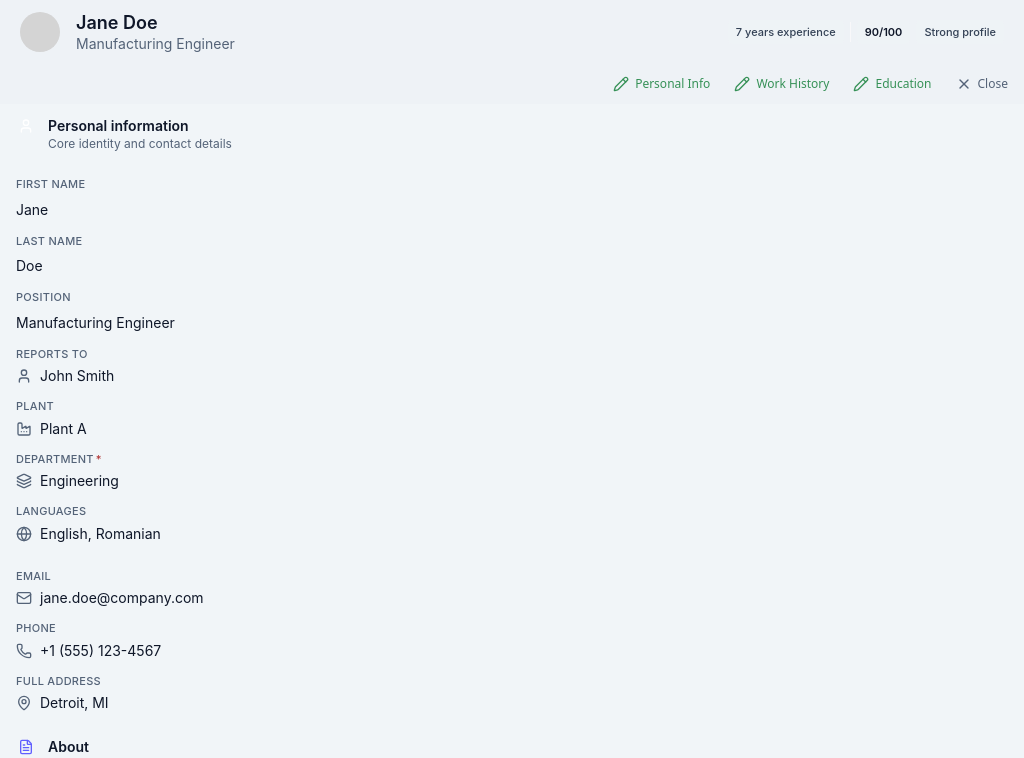
Scenario: UserProfilePage — integration › save success › shows success toast after successful save
Click the button "Personal Info".
click(662, 84)  # box x1=605 y1=68 x2=718 y2=100
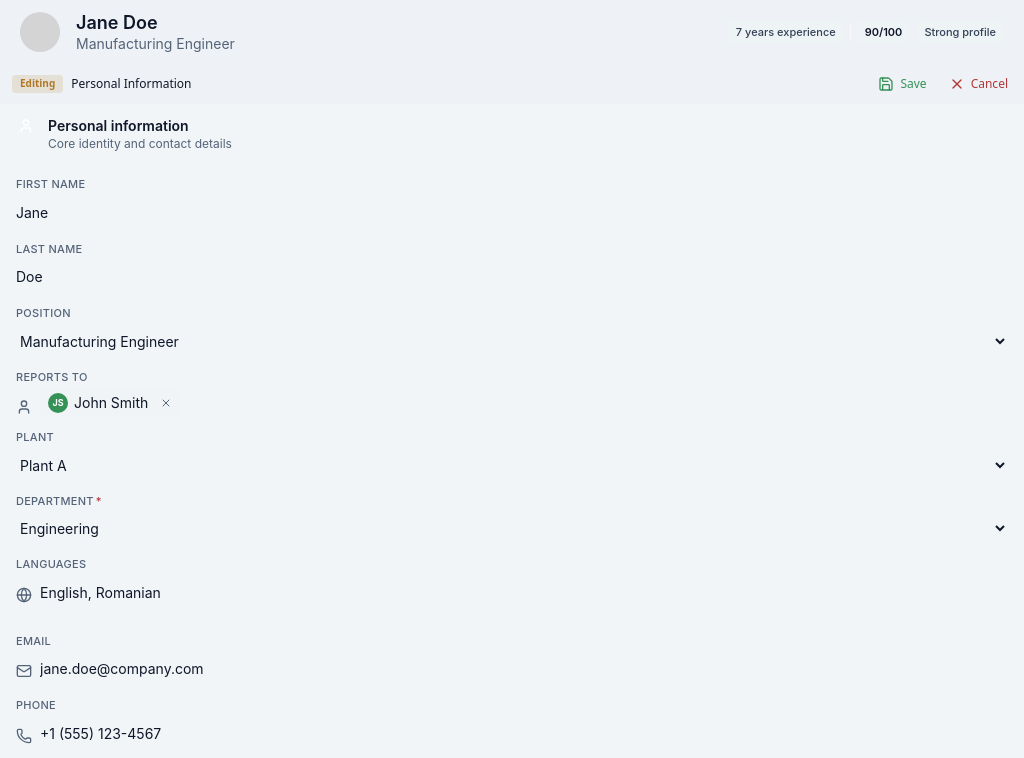
Click the button "Save".
click(903, 84)  # box x1=870 y1=68 x2=935 y2=100
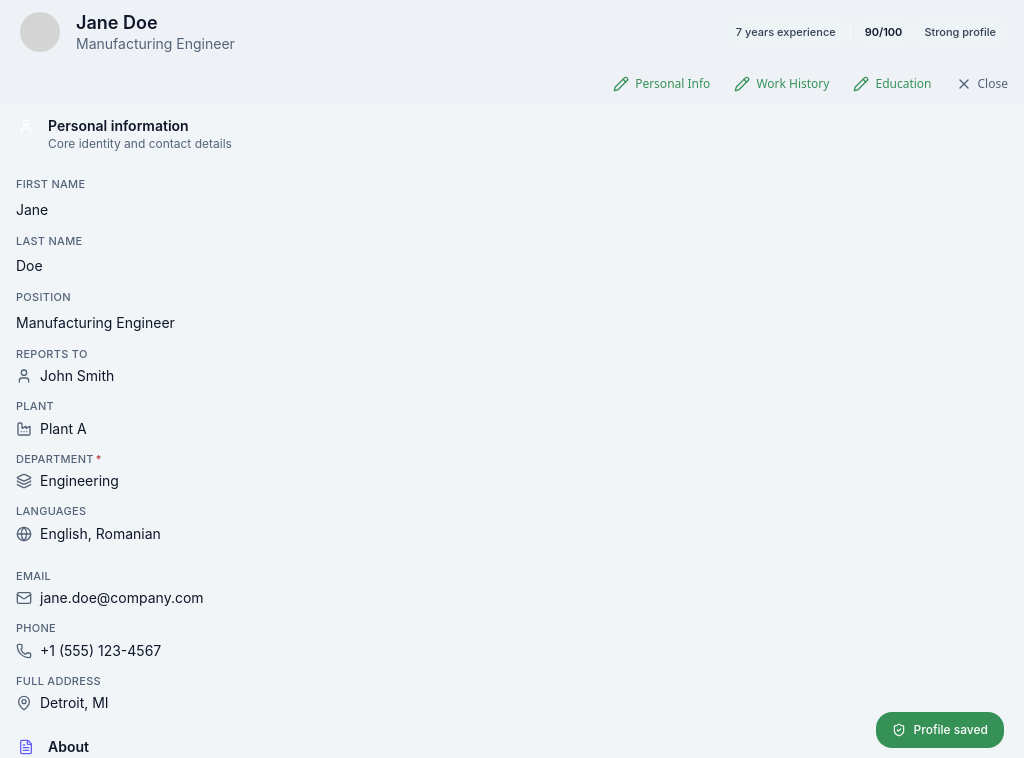
Result: the text "Profile saved" is shown at x1=876 y1=712 x2=1004 y2=748
